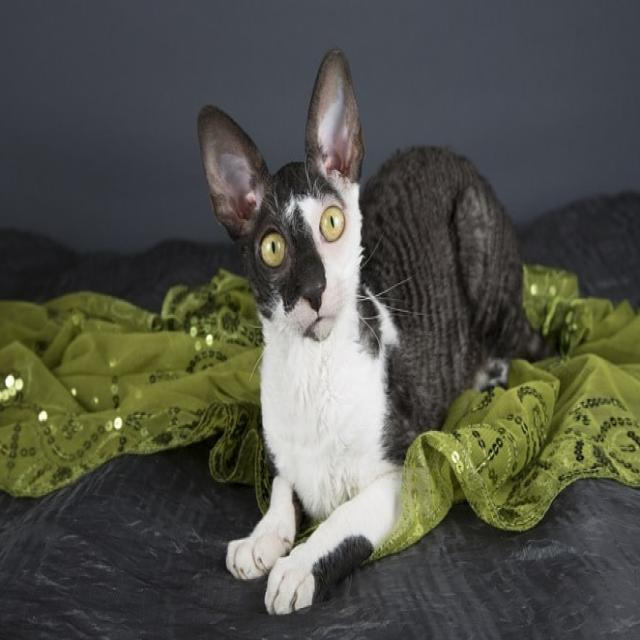Cornish Rex: (195, 43, 536, 622)
